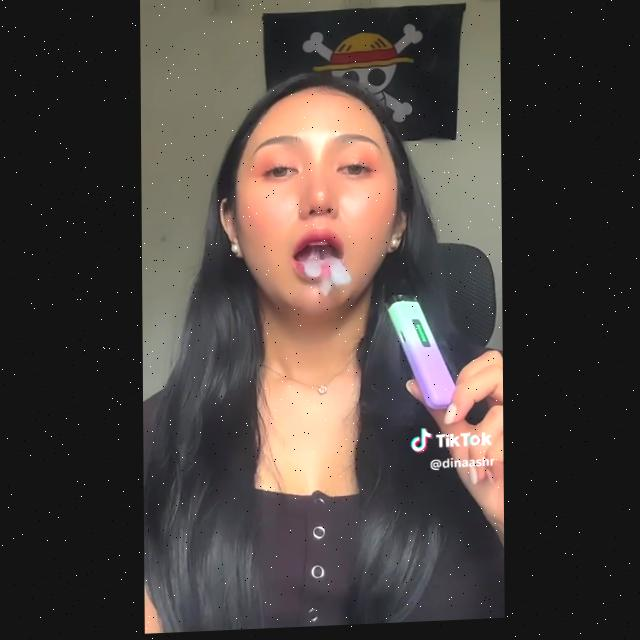vape: (381, 274, 457, 413)
